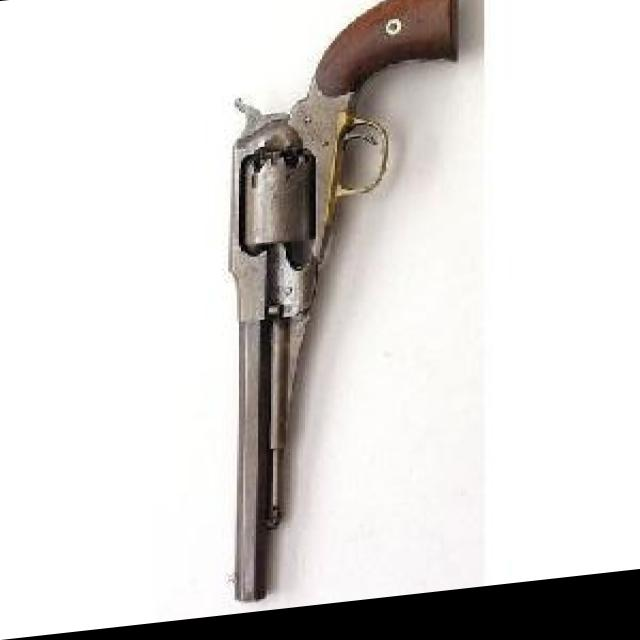handgun: (222, 0, 459, 608)
